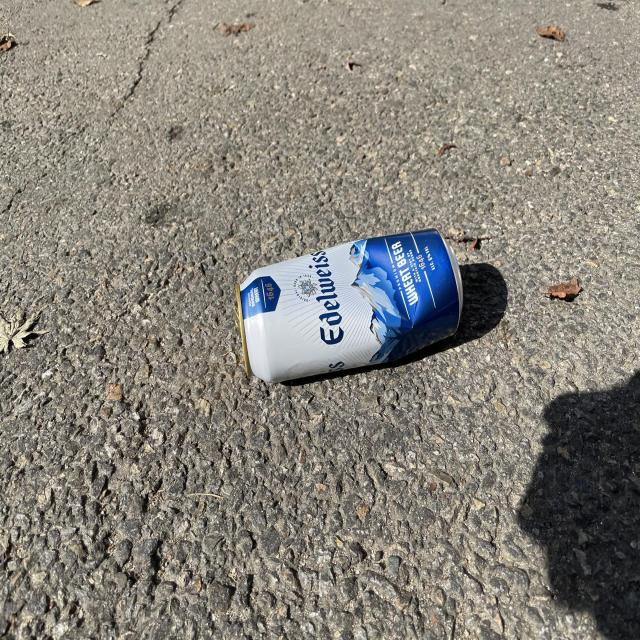can: (236, 228, 464, 382)
